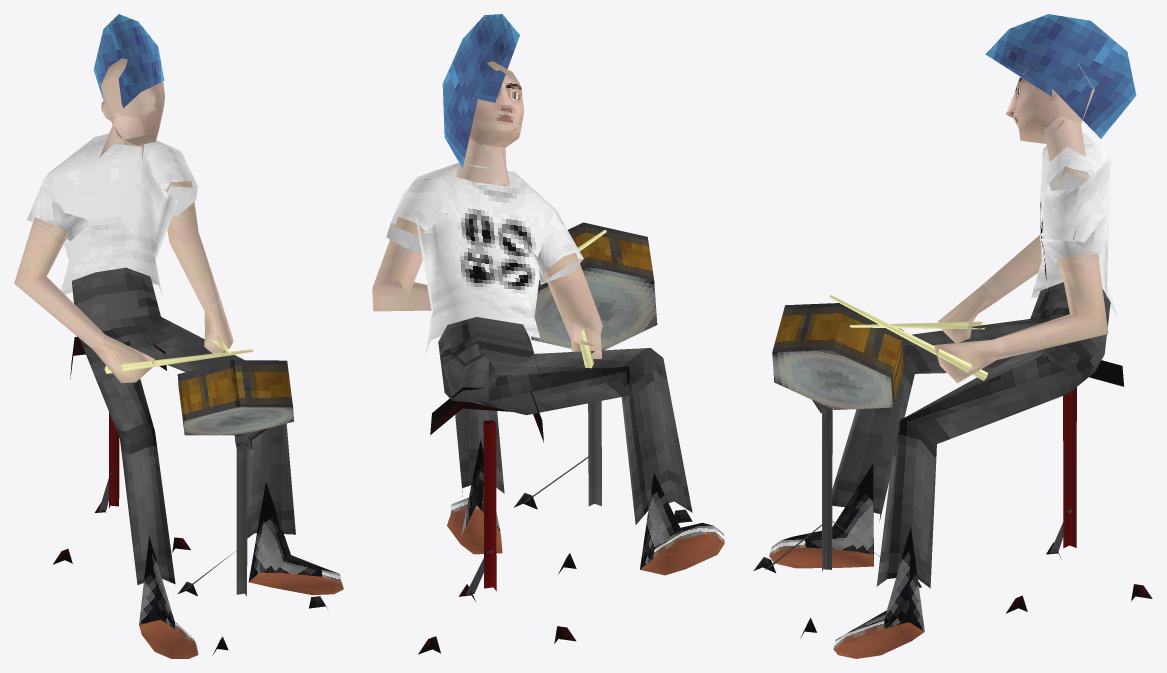
The model's file is ps2_save-icons_rockband2.glb.
3 renders of one model, left to right at view 1: azimuth 30°, elevation 25°; view 2: azimuth 150°, elevation 25°; view 3: azimuth 270°, elevation 25°, orthographic. The views are drawn at different scales.
Visible parts, largest first — view 1: rockband.ico; view 2: rockband.ico; view 3: rockband.ico.
Boxes of the visible parts, left/top/right/bottom form: rockband.ico: left=14, top=14, right=343, bottom=658; rockband.ico: left=372, top=14, right=724, bottom=654; rockband.ico: left=753, top=14, right=1152, bottom=658.
Size of the model in its own units: 1.18 by 2.63 by 1.63.
Materials: 1 (1 with a texture image).
